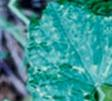Tomato leaf mosaic virus: (19, 0, 112, 101)
